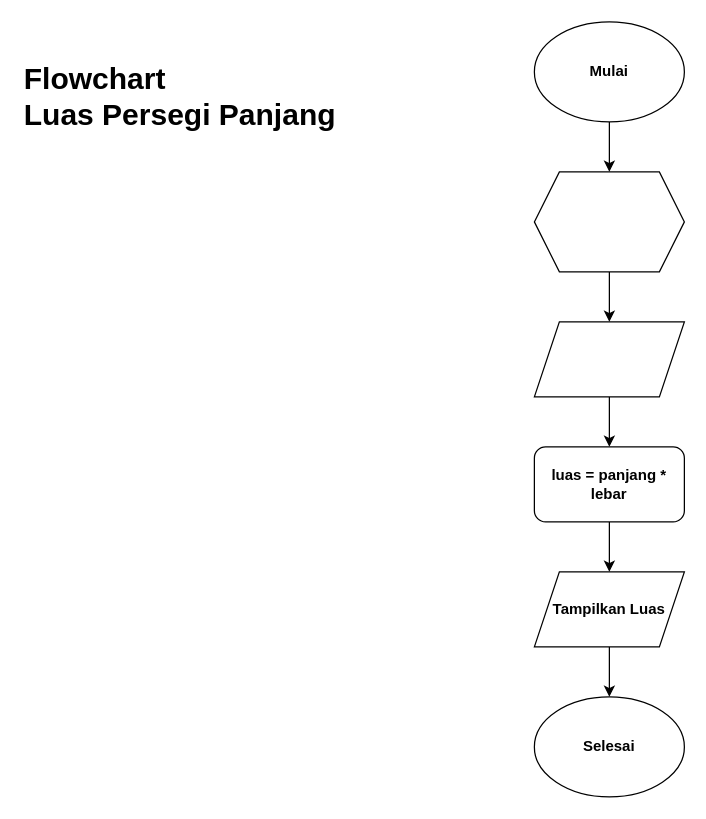
This 706x819 diagram has some shape labels left out. The box of each missing label's shape, as (x1, y1, x2, y2) in pixels:
Input panjang, lebar: (533, 321, 684, 397)
int panjang, lebar, luas: (533, 171, 684, 272)
